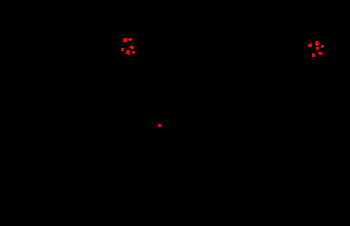Target: (123, 38, 127, 43), (315, 41, 319, 46), (126, 50, 130, 55), (308, 43, 312, 47), (130, 45, 134, 49), (318, 52, 323, 55), (128, 38, 132, 41), (312, 53, 315, 57), (321, 45, 324, 48), (316, 47, 319, 50), (121, 48, 124, 51), (132, 51, 135, 54), (158, 124, 161, 127)
